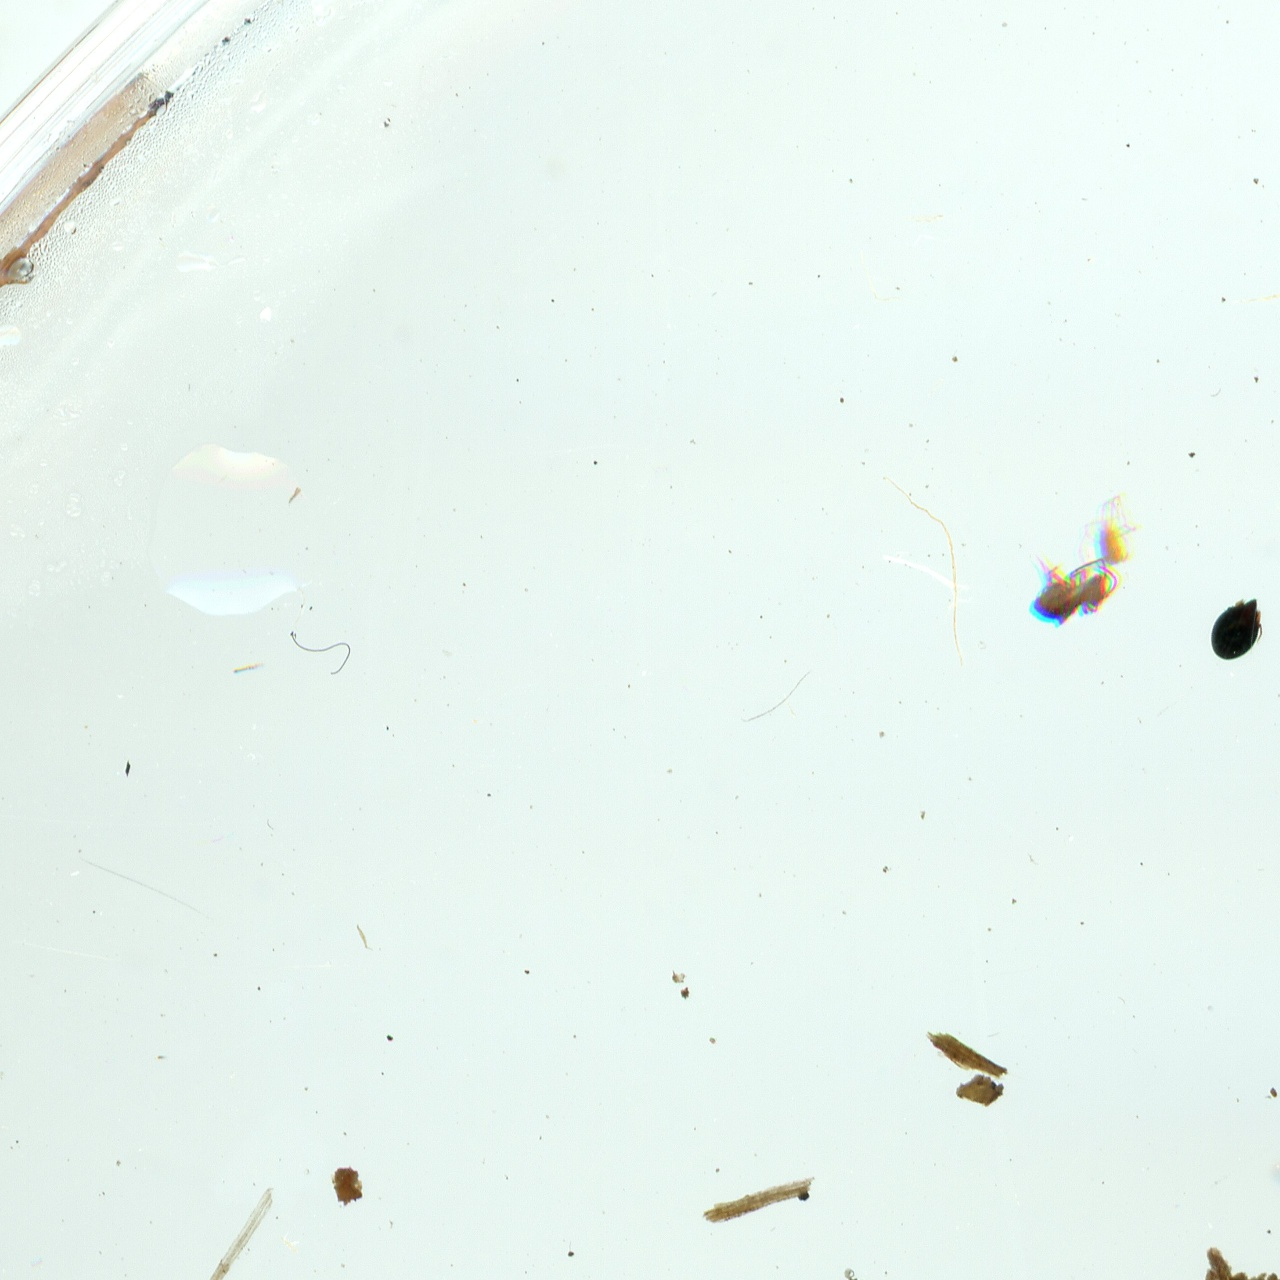arthropod: (1026, 549, 1125, 632), (1074, 491, 1144, 579), (1208, 597, 1265, 662)
